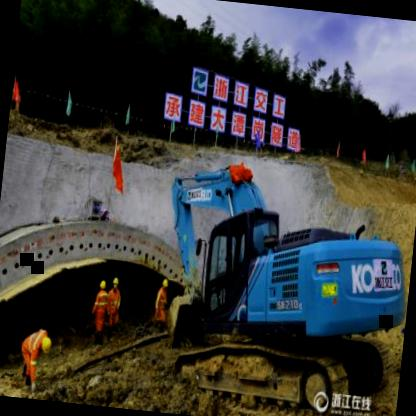helmet: (36, 336, 50, 356), (160, 276, 169, 294), (110, 274, 120, 290), (98, 277, 106, 294)
